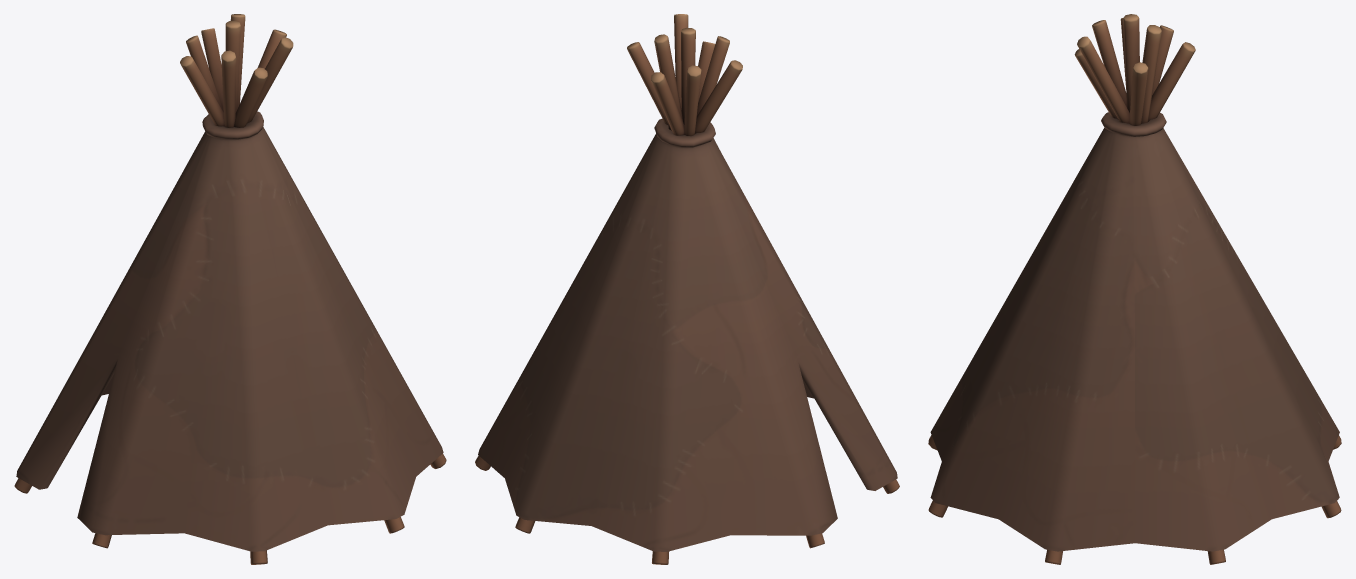
Rendered from skinHut_lod.fbx.
3 renders of one model, left to right at view 1: azimuth 30°, elevation 25°; view 2: azimuth 150°, elevation 25°; view 3: azimuth 270°, elevation 25°, orthographic. The views are drawn at different scales.
Parts seen in each view (by area): view 1: skinHut_LOD0; view 2: skinHut_LOD0; view 3: skinHut_LOD0.
Boxes of the visible parts, x1,y1,x2,y2 form: skinHut_LOD0: [14, 14, 446, 564]; skinHut_LOD0: [475, 14, 899, 564]; skinHut_LOD0: [928, 14, 1341, 564].
Size of what is drawn, in the model's own units: 223 by 277 by 222.
Materials: 1 (1 with a texture image).
